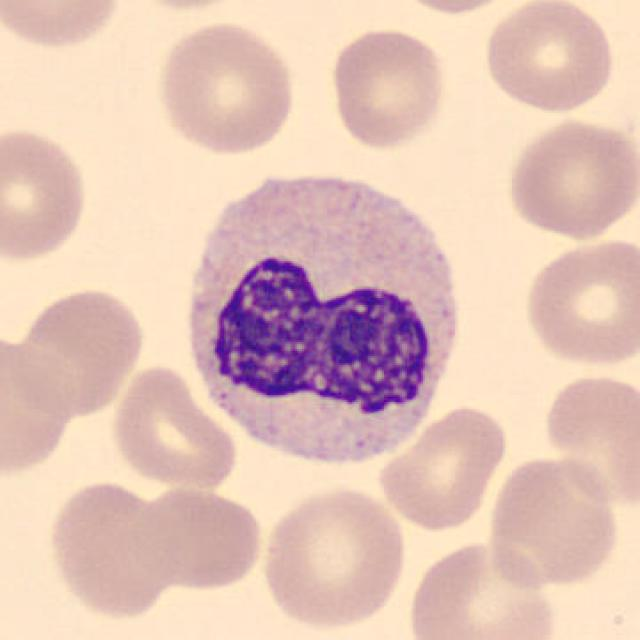Neutrophil: (171, 155, 473, 485)
RBC: (258, 481, 410, 633), (151, 18, 299, 158), (42, 476, 180, 621), (482, 452, 624, 592), (7, 282, 151, 416), (375, 402, 510, 532), (107, 361, 240, 492), (502, 115, 638, 243), (403, 537, 561, 640), (326, 23, 452, 152), (519, 234, 638, 370), (480, 0, 619, 115), (128, 483, 267, 594), (538, 366, 640, 513), (0, 121, 92, 266), (0, 328, 80, 481), (0, 0, 124, 53), (384, 0, 528, 16), (118, 0, 260, 14)
